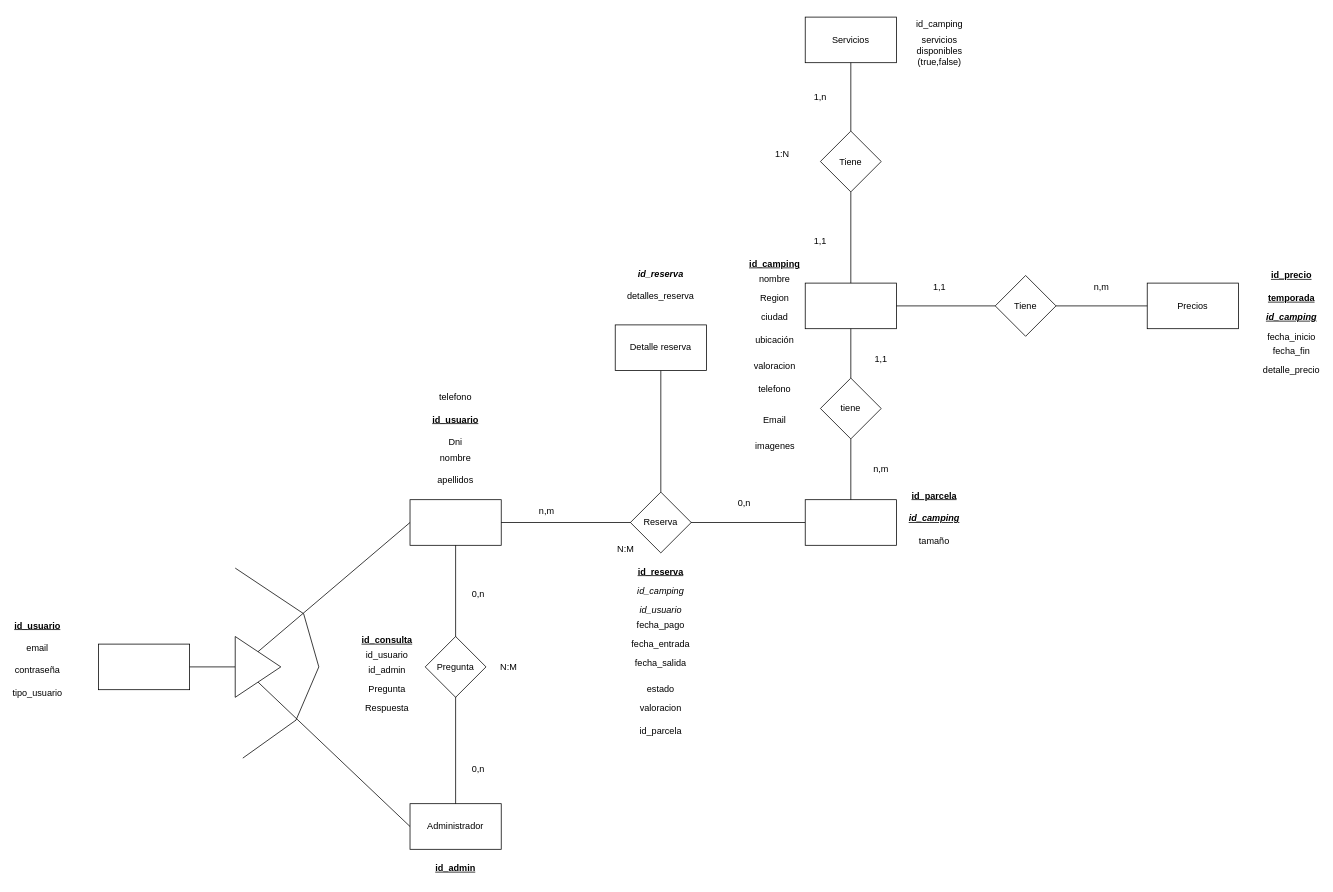
Image size: 1333x892. Some labels were removed from this diagram. Here are the shapes that lost their labels. From the top down, the centre of each, then its label:
At (850,305): "Camping".
At (455,522): "Usuario_registrado".
At (850,522): "Parcela".
At (144,666): "Usuario".
